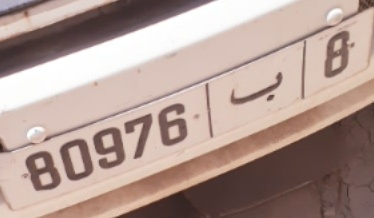0: (57, 137, 94, 183)
6: (156, 102, 189, 148)
7: (125, 111, 155, 163)
8: (23, 149, 63, 192), (322, 29, 352, 77)
9: (94, 126, 127, 171)
b: (229, 70, 284, 110)
